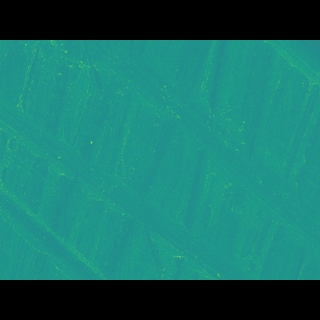Loch: (93, 70, 319, 235), (0, 108, 256, 250), (0, 174, 110, 250)
